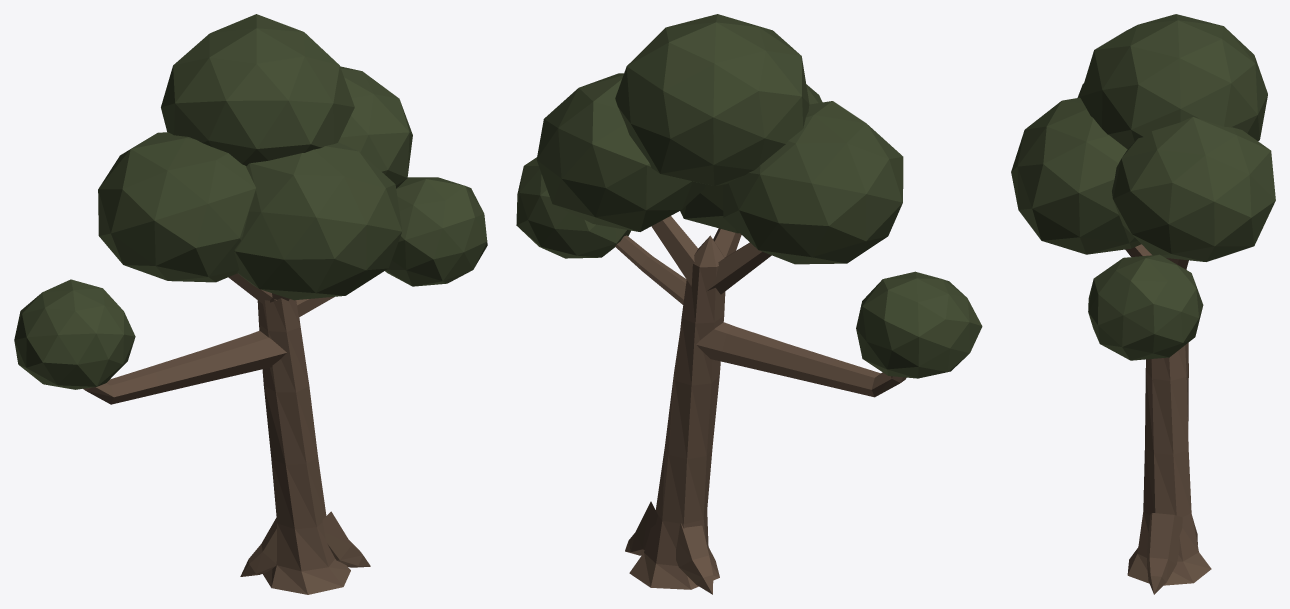
The model's file is lakeside-swing-tree-02c084.glb.
3 renders of one model, left to right at view 1: azimuth 30°, elevation 25°; view 2: azimuth 150°, elevation 25°; view 3: azimuth 270°, elevation 25°, orthographic. The views are drawn at different scales.
Parts seen in each view (by area): view 1: lakeside-swing-tree-02c084; view 2: lakeside-swing-tree-02c084; view 3: lakeside-swing-tree-02c084.
Boxes of the visible parts, <box> form: lakeside-swing-tree-02c084: <box>14,14,487,594</box>; lakeside-swing-tree-02c084: <box>516,14,982,594</box>; lakeside-swing-tree-02c084: <box>1011,14,1275,594</box>.
Size of the model in its own units: 7.61 by 9.01 by 4.1.
